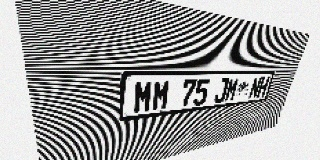5: (193, 79, 210, 106)
7: (179, 79, 197, 108)
H: (256, 77, 270, 98)
J: (213, 78, 230, 103)
M: (133, 80, 154, 114), (151, 80, 171, 111), (224, 78, 240, 102)
N: (248, 77, 262, 99)
